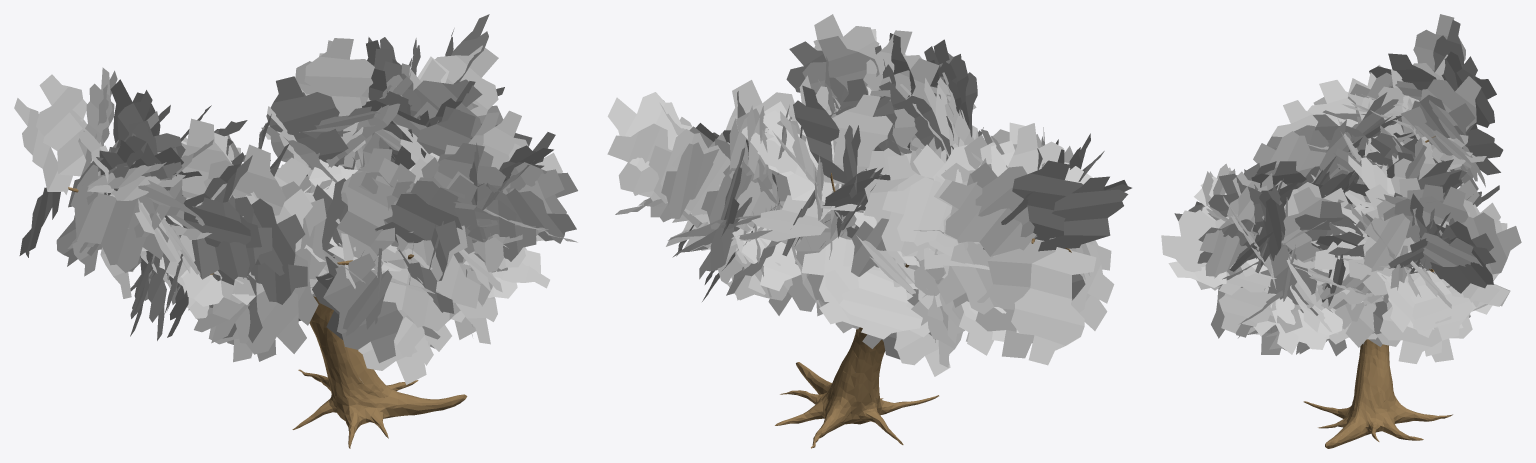
The model's file is FTree.fbx.
The picture shows the model from 3 angles, left to right: view 1: azimuth 30°, elevation 25°; view 2: azimuth 150°, elevation 25°; view 3: azimuth 270°, elevation 25°; orthographic projection. The views are drawn at different scales.
Visible parts, largest first — view 1: TreeLP, TreeLP|Tree Branch|Dupli|232, TreeLP|Tree Branch|Dupli|162, TreeLP|Tree Branch|Dupli|167, TreeLP|Tree Branch|Dupli|344, TreeLP|Tree Branch|Dupli|139, TreeLP|Tree Branch|Dupli|142, TreeLP|Tree Branch|Dupli|370, TreeLP|Tree Branch|Dupli|178, TreeLP|Tree Branch|Dupli|129, TreeLP|Tree Branch|Dupli|358, TreeLP|Tree Branch|Dupli|92 (+68 smaller); view 2: TreeLP, TreeLP|Tree Branch|Dupli|234, TreeLP|Tree Branch|Dupli|164, TreeLP|Tree Branch|Dupli|89, TreeLP|Tree Branch|Dupli|190, TreeLP|Tree Branch|Dupli|258, TreeLP|Tree Branch|Dupli|230, TreeLP|Tree Branch|Dupli|167, TreeLP|Tree Branch|Dupli|330, TreeLP|Tree Branch|Dupli|283, TreeLP|Tree Branch|Dupli|87, TreeLP|Tree Branch|Dupli|327 (+50 smaller); view 3: TreeLP, TreeLP|Tree Branch|Dupli|156, TreeLP|Tree Branch|Dupli|111, TreeLP|Tree Branch|Dupli|85, TreeLP|Tree Branch|Dupli|254, TreeLP|Tree Branch|Dupli|110, TreeLP|Tree Branch|Dupli|123, TreeLP|Tree Branch|Dupli|11, TreeLP|Tree Branch|Dupli|352, TreeLP|Tree Branch|Dupli|330, TreeLP|Tree Branch|Dupli|115, TreeLP|Tree Branch|Dupli|12 (+70 smaller).
Part boxes in pixels (x1,y1,x2,y2): TreeLP: [68, 187, 467, 448]; TreeLP|Tree Branch|Dupli|232: [70, 161, 168, 272]; TreeLP|Tree Branch|Dupli|162: [266, 76, 348, 176]; TreeLP|Tree Branch|Dupli|167: [36, 74, 108, 176]; TreeLP|Tree Branch|Dupli|344: [336, 158, 398, 274]; TreeLP|Tree Branch|Dupli|139: [383, 254, 480, 331]; TreeLP|Tree Branch|Dupli|142: [323, 253, 402, 363]; TreeLP|Tree Branch|Dupli|370: [299, 38, 374, 132]; TreeLP|Tree Branch|Dupli|178: [212, 291, 306, 354]; TreeLP|Tree Branch|Dupli|129: [375, 187, 462, 242]; TreeLP|Tree Branch|Dupli|358: [192, 201, 261, 279]; TreeLP|Tree Branch|Dupli|92: [204, 144, 285, 215]; TreeLP: [775, 173, 1071, 448]; TreeLP|Tree Branch|Dupli|234: [1011, 247, 1096, 365]; TreeLP|Tree Branch|Dupli|164: [975, 240, 1055, 358]; TreeLP|Tree Branch|Dupli|89: [939, 181, 1036, 256]; TreeLP|Tree Branch|Dupli|190: [1038, 176, 1128, 251]; TreeLP|Tree Branch|Dupli|258: [839, 269, 922, 339]; TreeLP|Tree Branch|Dupli|230: [882, 177, 958, 247]; TreeLP|Tree Branch|Dupli|167: [1012, 160, 1083, 240]; TreeLP|Tree Branch|Dupli|330: [607, 123, 672, 203]; TreeLP|Tree Branch|Dupli|283: [823, 94, 892, 184]; TreeLP|Tree Branch|Dupli|87: [937, 241, 1000, 314]; TreeLP|Tree Branch|Dupli|327: [607, 92, 695, 171]; TreeLP: [1303, 136, 1452, 448]; TreeLP|Tree Branch|Dupli|156: [1411, 270, 1472, 340]; TreeLP|Tree Branch|Dupli|111: [1161, 210, 1256, 276]; TreeLP|Tree Branch|Dupli|85: [1401, 76, 1481, 144]; TreeLP|Tree Branch|Dupli|254: [1364, 213, 1410, 271]; TreeLP|Tree Branch|Dupli|110: [1218, 286, 1276, 333]; TreeLP|Tree Branch|Dupli|123: [1281, 187, 1333, 269]; TreeLP|Tree Branch|Dupli|11: [1439, 212, 1521, 287]; TreeLP|Tree Branch|Dupli|352: [1253, 131, 1325, 170]; TreeLP|Tree Branch|Dupli|330: [1430, 237, 1495, 293]; TreeLP|Tree Branch|Dupli|115: [1199, 217, 1262, 278]; TreeLP|Tree Branch|Dupli|12: [1380, 267, 1449, 363].
Bounding box in the file's own units: 910 × 645 × 688.
